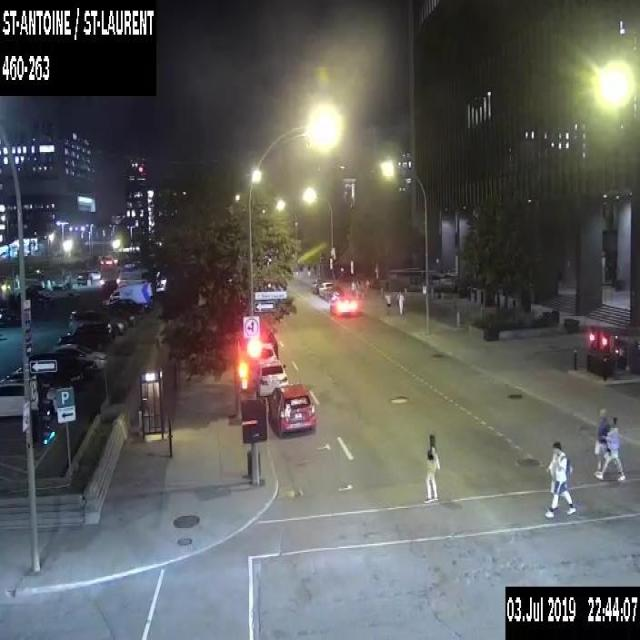pedestrian: (542, 440, 576, 519), (596, 414, 626, 482), (592, 406, 610, 482), (424, 432, 442, 501), (395, 288, 405, 316), (384, 290, 392, 314), (349, 278, 355, 294)
vehicle: (266, 382, 316, 436), (0, 376, 62, 413), (28, 352, 96, 378), (51, 342, 107, 369), (69, 308, 126, 334), (57, 323, 112, 349), (11, 365, 82, 385), (104, 280, 152, 309), (257, 359, 287, 398), (108, 297, 145, 314), (103, 308, 135, 327), (45, 282, 79, 299), (256, 331, 278, 357), (329, 295, 357, 315), (77, 268, 103, 286), (261, 341, 276, 364), (324, 285, 343, 300), (317, 281, 334, 296)
